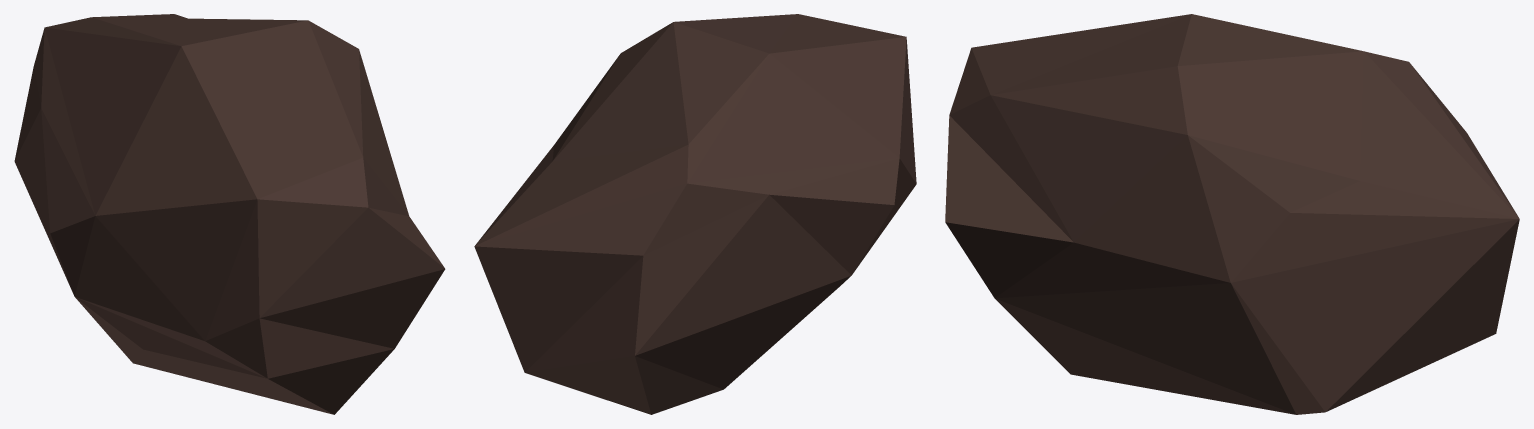
Rendered from rock_low.fbx.
3 views of the same model, side by side, from view 1: azimuth 30°, elevation 25°; view 2: azimuth 150°, elevation 25°; view 3: azimuth 270°, elevation 25° (orthographic). The views are drawn at different scales.
Parts seen in each view (by area): view 1: rock_low; view 2: rock_low; view 3: rock_low.
Boxes of the visible parts, x1,y1,x2,y2 form: rock_low: [14, 14, 445, 414]; rock_low: [474, 14, 916, 414]; rock_low: [945, 14, 1519, 414].
Size of the model in its own units: 36.37 by 36.57 by 52.67.
